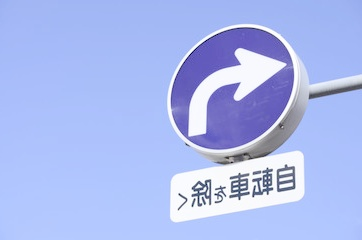Direction_sign: (173, 32, 300, 158)
